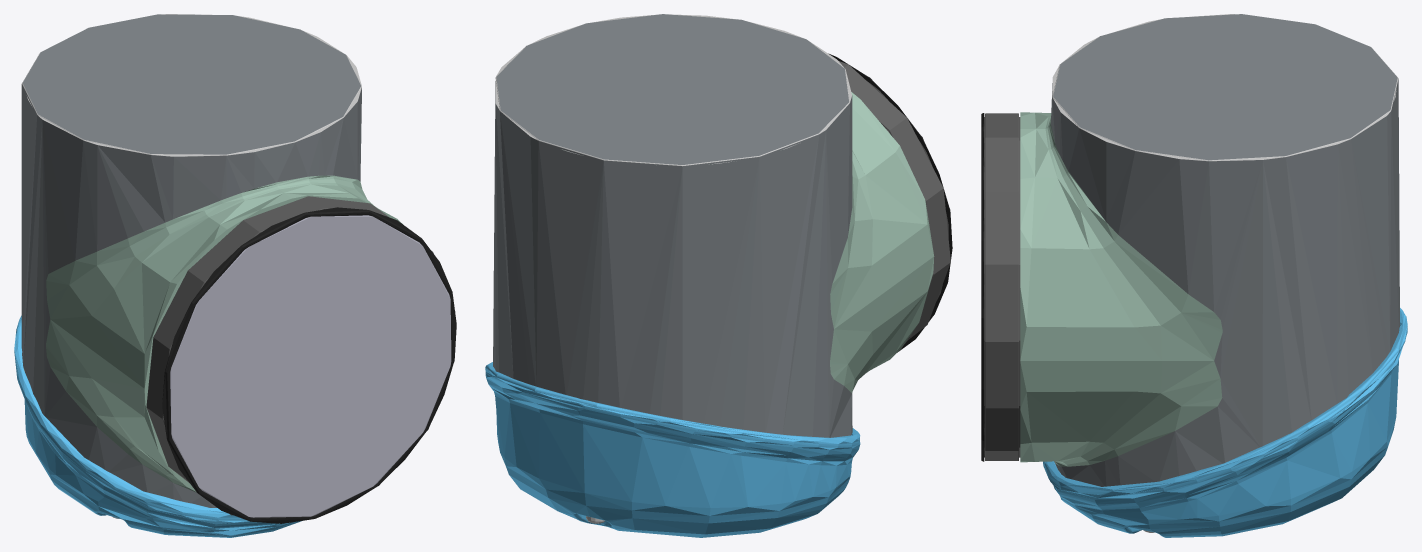
Rendered from WRIST2.fbx.
3 renders of one model, left to right at view 1: azimuth 30°, elevation 25°; view 2: azimuth 150°, elevation 25°; view 3: azimuth 270°, elevation 25°, orthographic. The views are drawn at different scales.
Visible parts, largest first — view 1: WRIST2; view 2: WRIST2; view 3: WRIST2.
Part boxes in pixels (left/top/right/bottom): WRIST2: left=14, top=14, right=456, bottom=537; WRIST2: left=485, top=14, right=952, bottom=537; WRIST2: left=981, top=14, right=1407, bottom=537.
Bounding box in the file's own units: 9.4 × 11.4 × 10.99.
